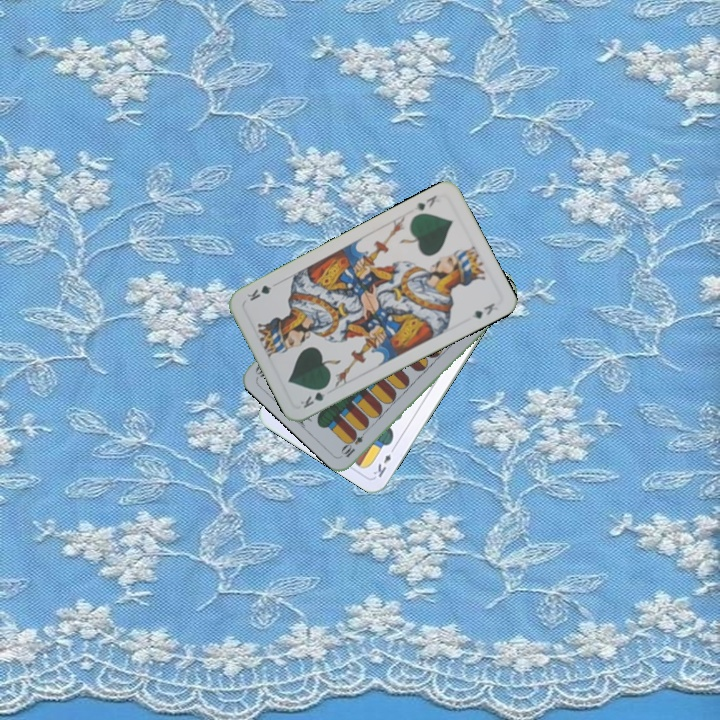E10: (338, 425, 370, 460)
EK: (369, 442, 398, 480)
GK: (296, 381, 331, 411), (412, 191, 439, 213)
